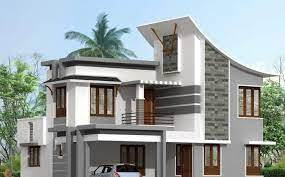Building House: (18, 13, 278, 176)
